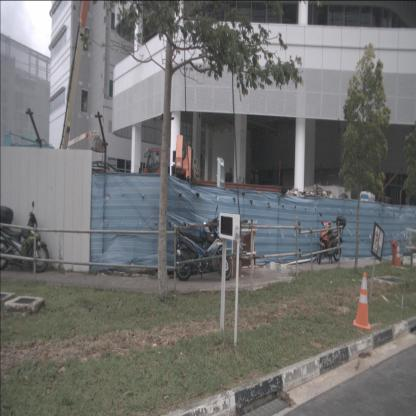movable_object-trafficcone: (353, 272, 371, 330), (394, 242, 402, 267)
vehicle-motorcycle: (168, 205, 232, 281), (0, 201, 49, 273), (318, 212, 347, 264)
